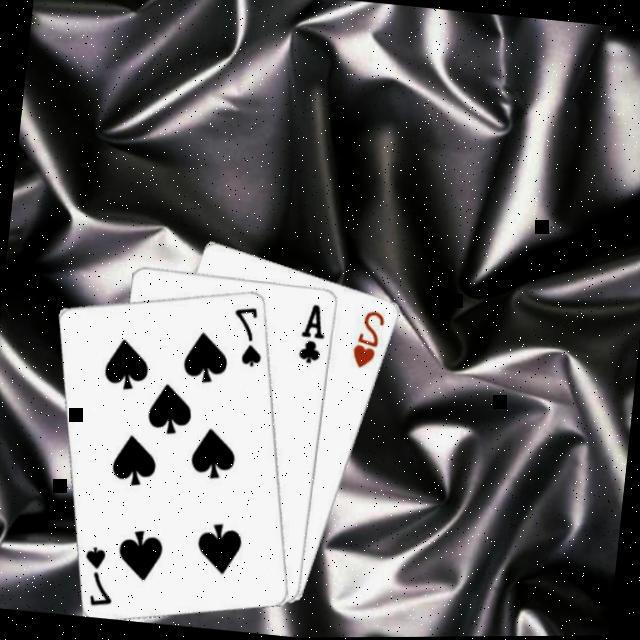2H: (346, 306, 386, 374)
7S: (224, 302, 267, 371), (76, 542, 118, 610)
AC: (294, 300, 328, 367)
